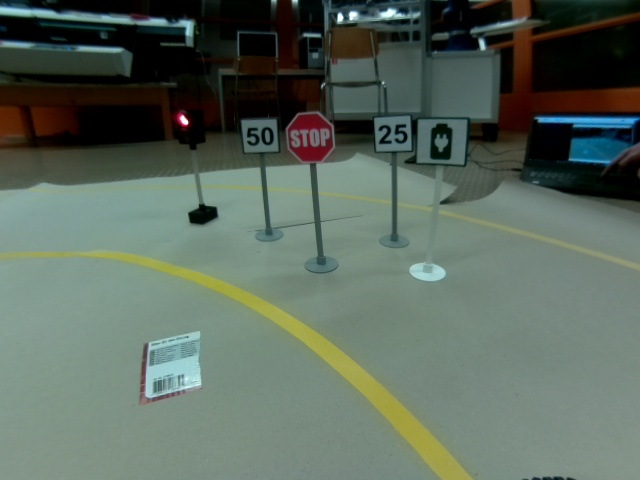battery: (415, 117, 469, 167)
speed25: (372, 114, 414, 153)
speed50: (239, 116, 280, 155)
stop: (286, 111, 335, 164)
trafficLightRed: (173, 107, 207, 145)
